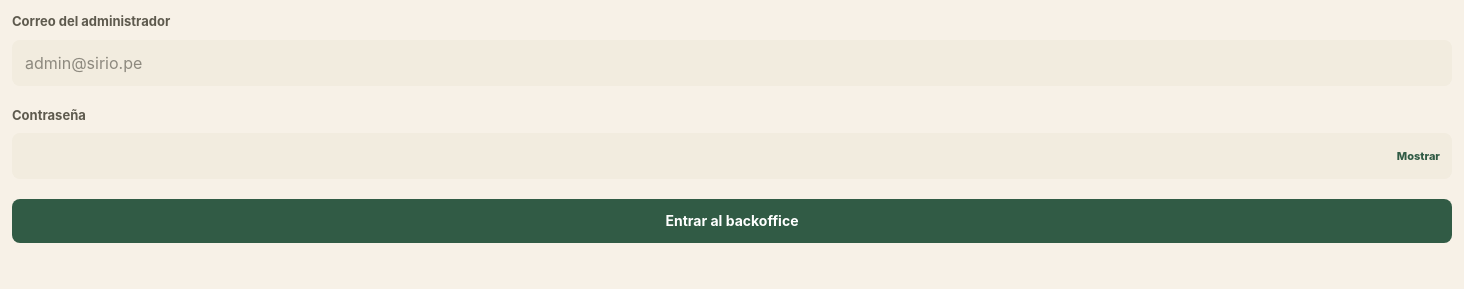
Test case: LoginForm › no envía el correo admin@sirio y explica cómo escribirlo
Type "admin@sirio" into the field labelled "Correo del administrador". click: x=732, y=62
box: [12,40,1452,86]
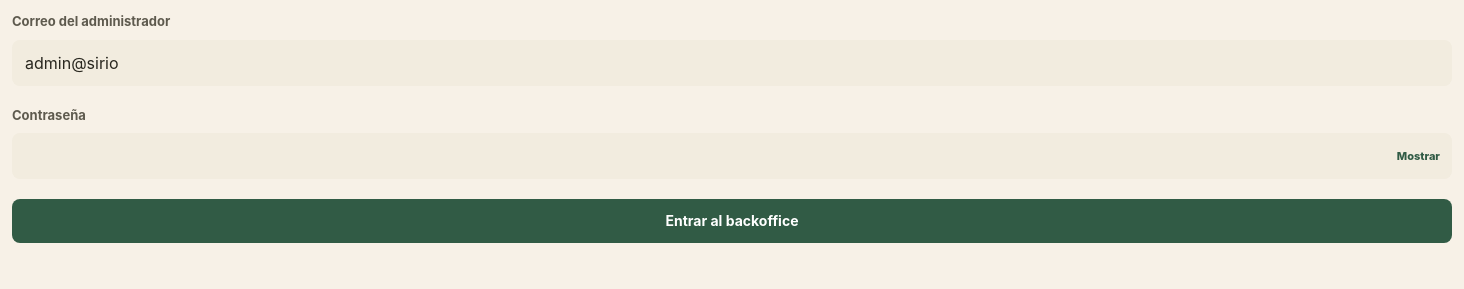
Type "AdminPass-1" into the password field labelled "Contraseña". click: x=732, y=156
box: [12,133,1452,179]
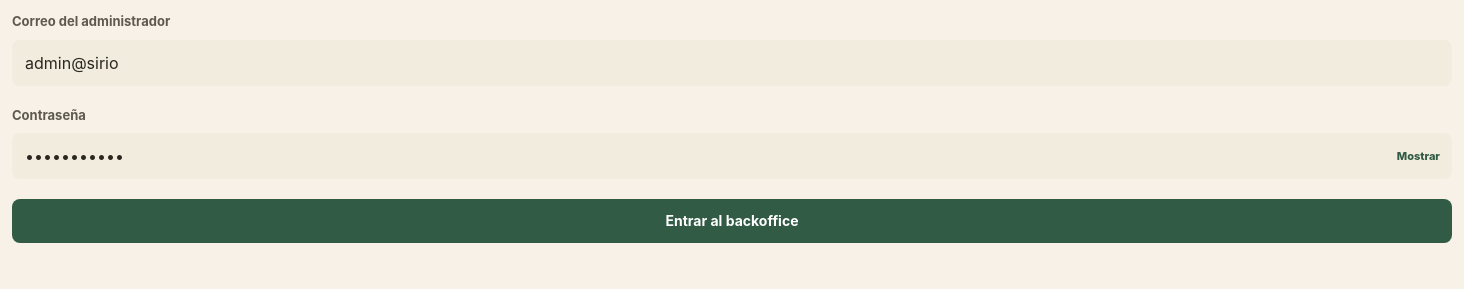
Click the button "Entrar al backoffice". click: x=732, y=221
box: [12,199,1452,243]
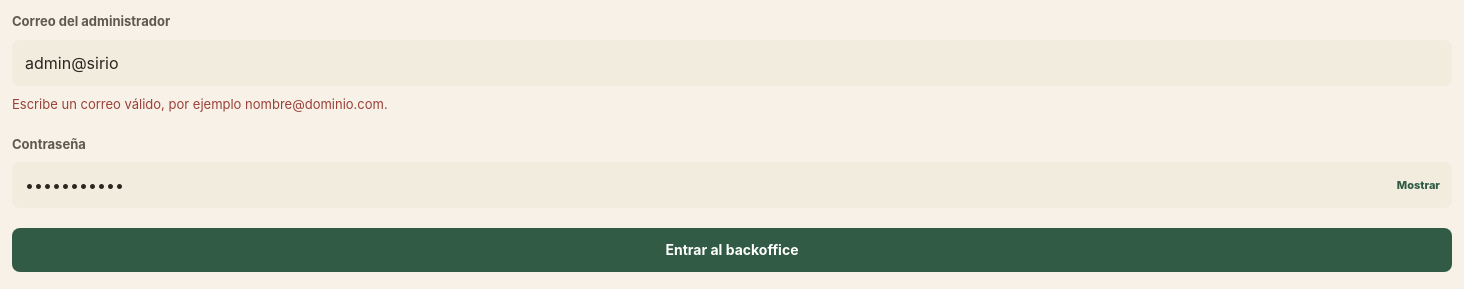
Expected: the message reads "Escribe un correo válido, por ejemplo nombre@dominio.com.", [12,96,388,112]
